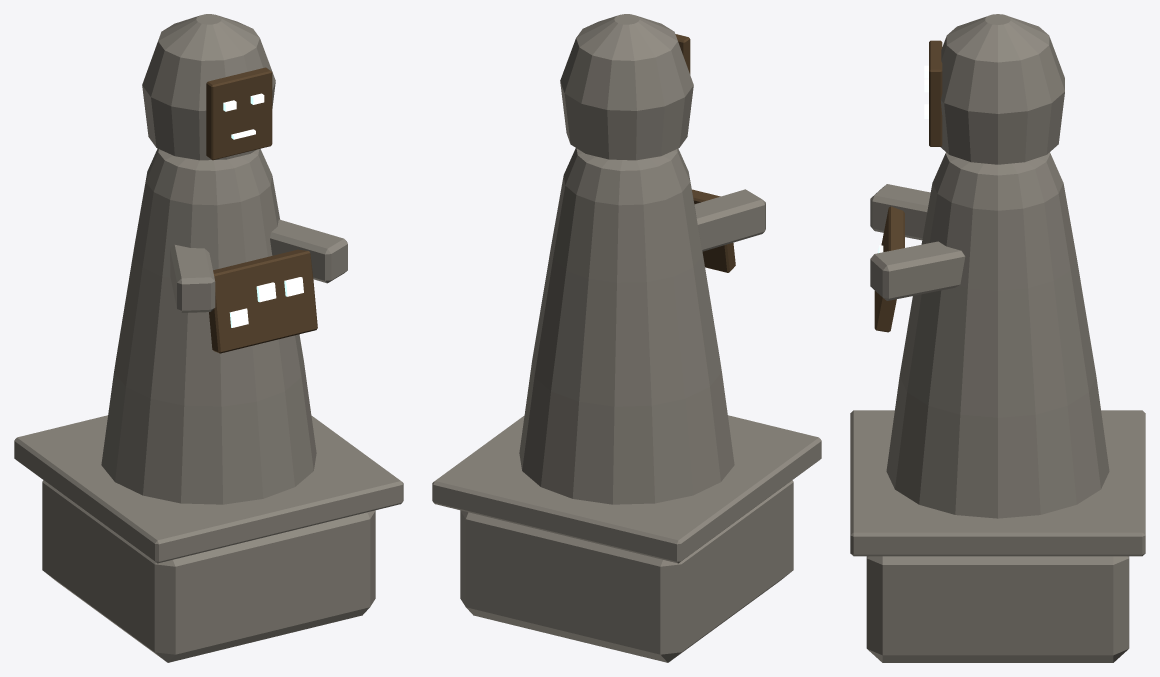
The model's file is Prop_Lab_GateRiddler.glb.
The picture shows the model from 3 angles, left to right: view 1: azimuth 30°, elevation 25°; view 2: azimuth 150°, elevation 25°; view 3: azimuth 270°, elevation 25°; orthographic projection. The views are drawn at different scales.
Parts seen in each view (by area): view 1: Prop_Lab_GateRiddler; view 2: Prop_Lab_GateRiddler; view 3: Prop_Lab_GateRiddler.
Boxes of the visible parts, <box> form: Prop_Lab_GateRiddler: <box>14,14,403,662</box>; Prop_Lab_GateRiddler: <box>432,14,821,662</box>; Prop_Lab_GateRiddler: <box>850,14,1145,662</box>.
Size of what is drawn, in the model's own units: 0.9 by 2 by 0.9.
